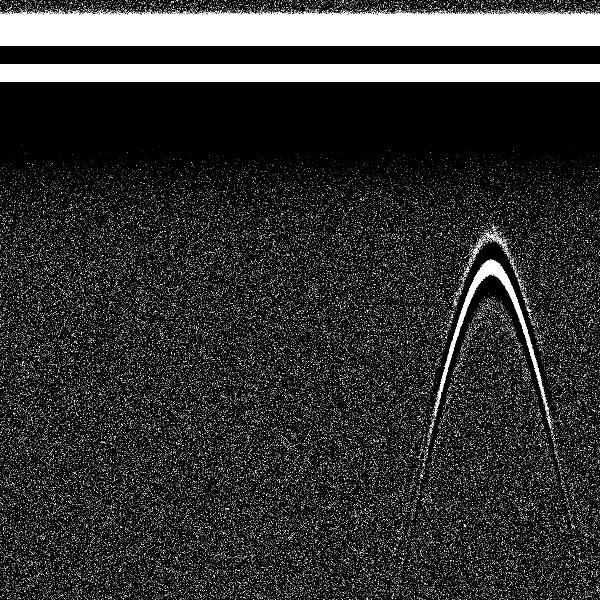pipe: (445, 6, 537, 322)
